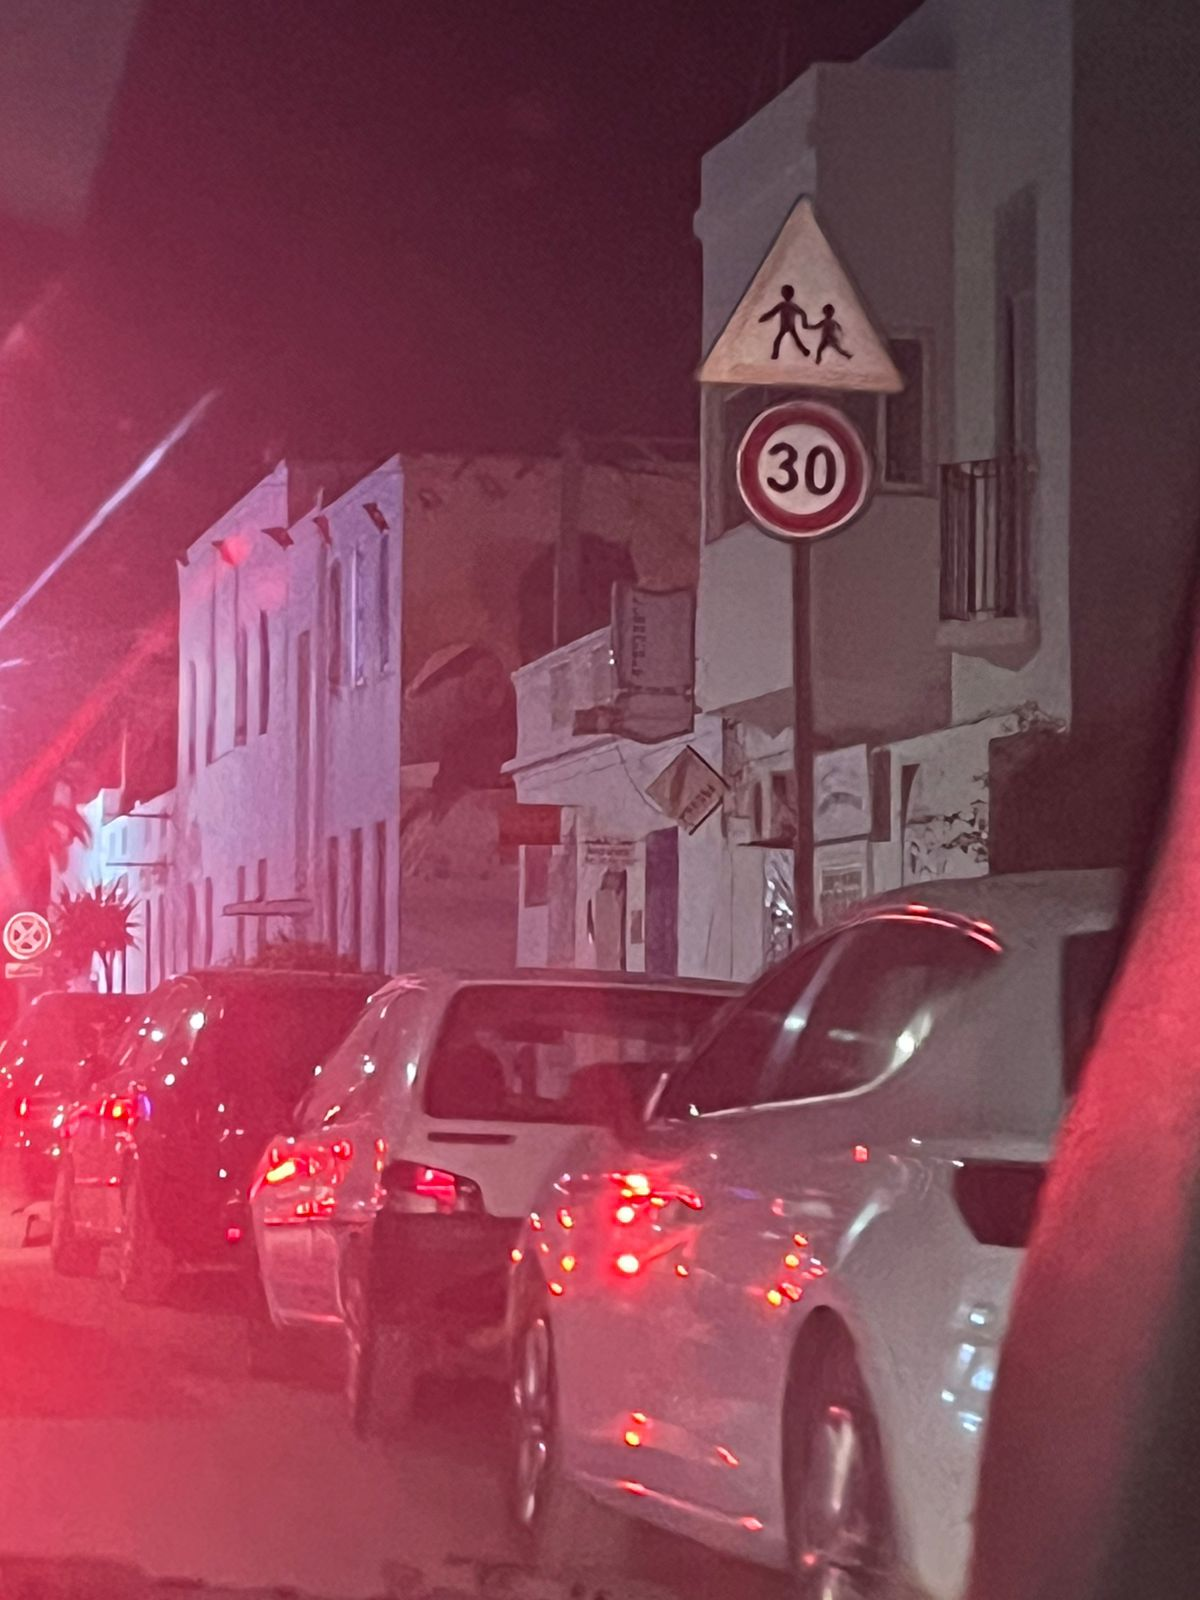SpeedLimit30: (734, 397, 874, 543), (802, 397, 803, 398)
